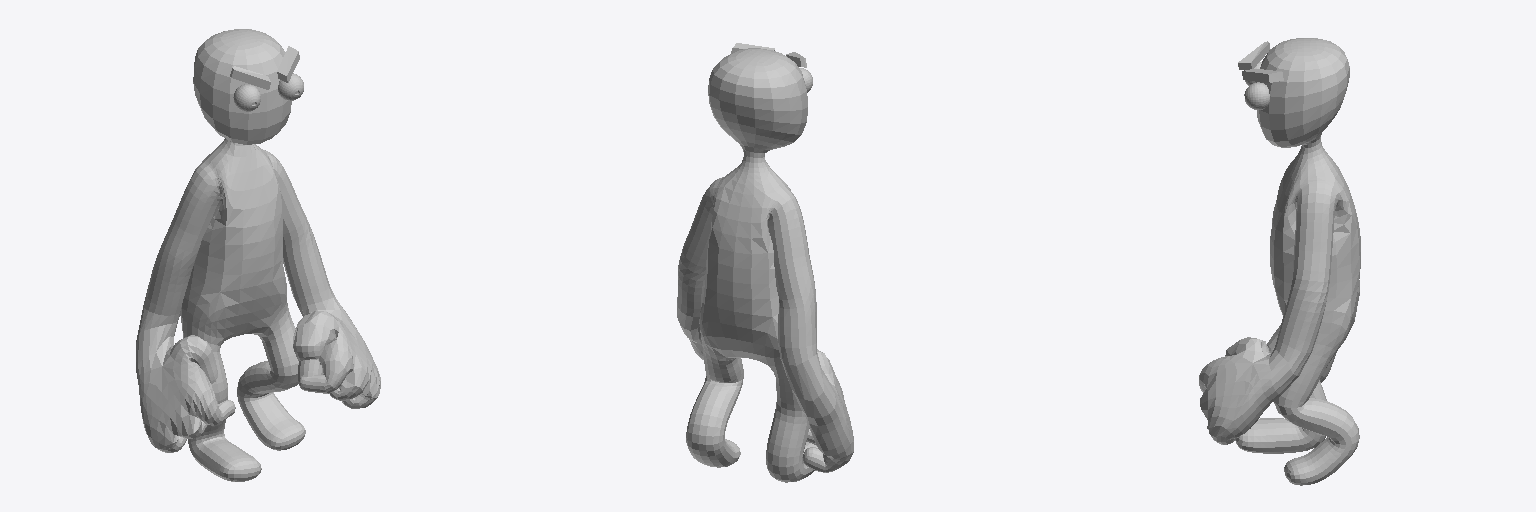
Rendered from crazy boy11.obj.
3 views of the same model, side by side, from view 1: azimuth 30°, elevation 25°; view 2: azimuth 150°, elevation 25°; view 3: azimuth 270°, elevation 25° (orthographic).
Parts seen in each view (by area): view 1: Plane.001, Sphere; view 2: Plane.001; view 3: Plane.001, Sphere.001.
Part boxes in pixels (x1,y1,x2,y2): Plane.001: (136, 29, 380, 481); Sphere: (233, 84, 260, 111); Plane.001: (677, 48, 853, 482); Plane.001: (1199, 38, 1360, 485); Sphere.001: (1244, 82, 1269, 109).
Size of the model in its own units: 8.19 by 16.84 by 5.93.